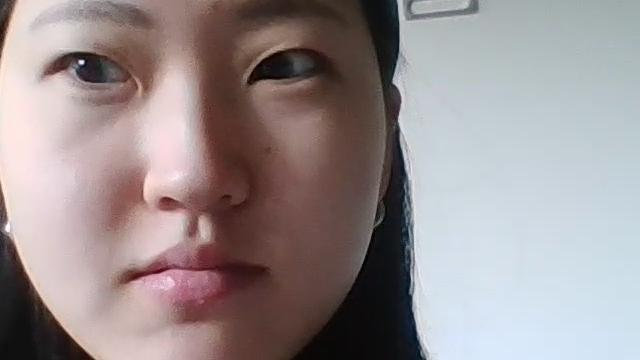eye: (257, 50, 290, 81), (73, 55, 104, 83)
iris: (250, 48, 321, 81), (62, 52, 135, 82)
